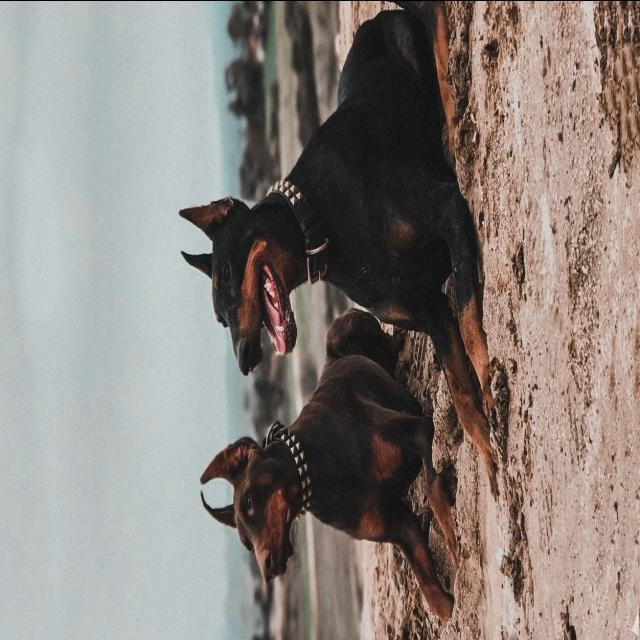Dogs: (178, 0, 509, 495), (199, 296, 463, 620)
